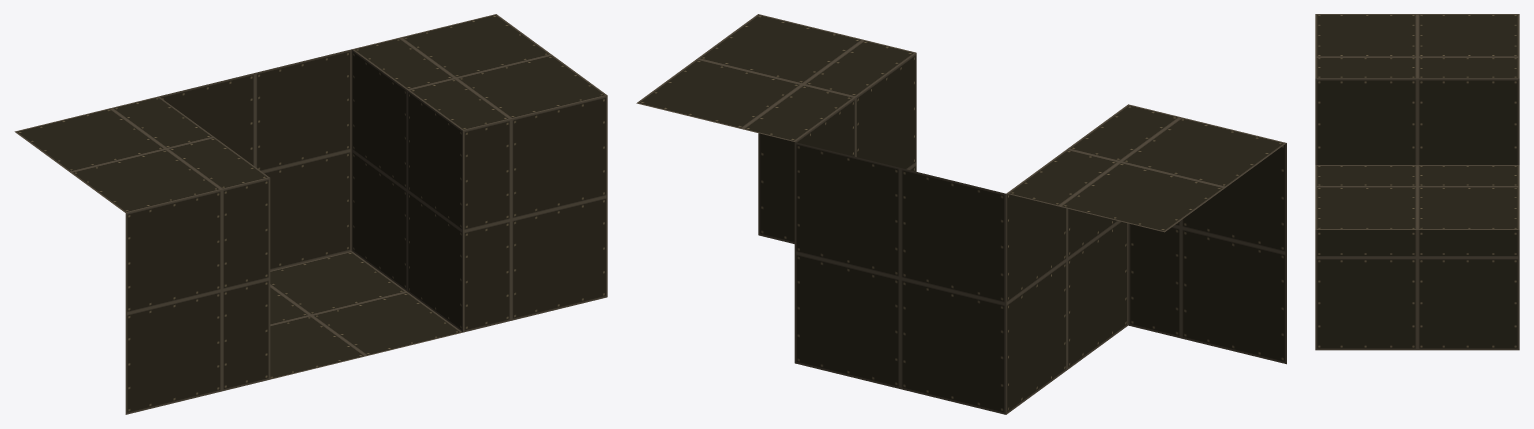
Rendered from PlatformEntrance.fbx.
3 views of the same model, side by side, from view 1: azimuth 30°, elevation 25°; view 2: azimuth 150°, elevation 25°; view 3: azimuth 270°, elevation 25° (orthographic). The views are drawn at different scales.
Parts seen in each view (by area): view 1: EntradaPlataforma; view 2: EntradaPlataforma; view 3: EntradaPlataforma.
Boxes of the visible parts, bbox=[...] form: EntradaPlataforma: bbox=[14, 14, 607, 414]; EntradaPlataforma: bbox=[636, 14, 1286, 414]; EntradaPlataforma: bbox=[1315, 14, 1519, 350].
Bounding box in the file's own units: 1000 × 400 × 400.
